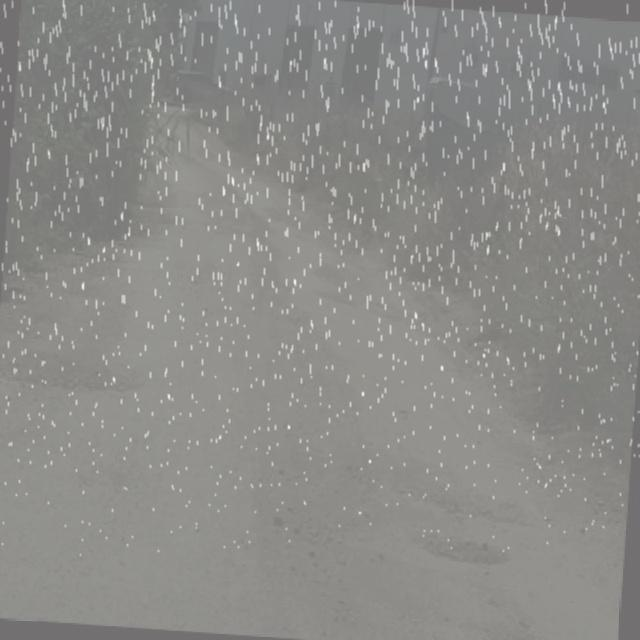Pothole: (21, 241, 156, 417), (397, 498, 509, 593), (130, 152, 197, 236)
